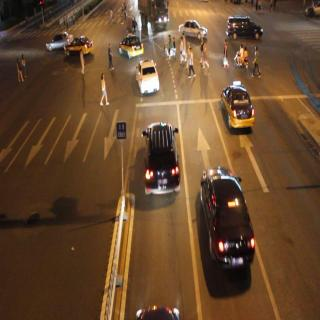BigCar: (138, 0, 168, 31)
Car: (201, 174, 254, 272), (143, 120, 181, 191), (222, 77, 255, 132), (226, 8, 258, 47), (136, 58, 158, 95), (181, 17, 206, 40), (66, 36, 91, 58), (119, 32, 143, 54), (46, 30, 72, 49)
